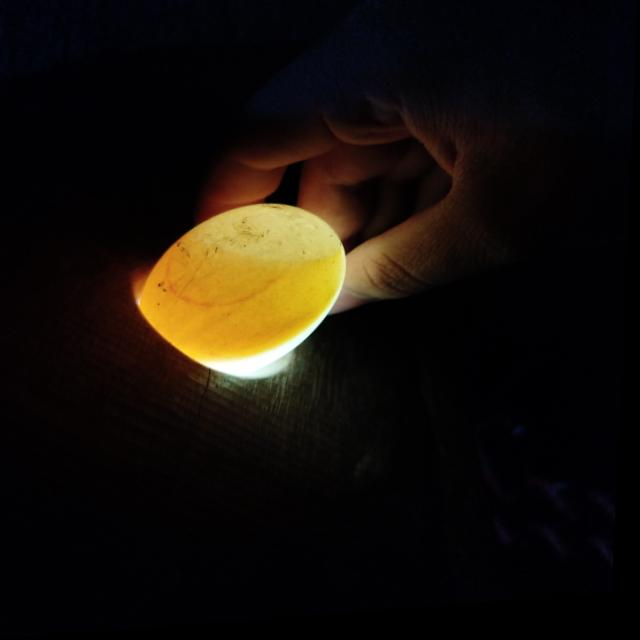Camara de Ar: (209, 208, 343, 265)
